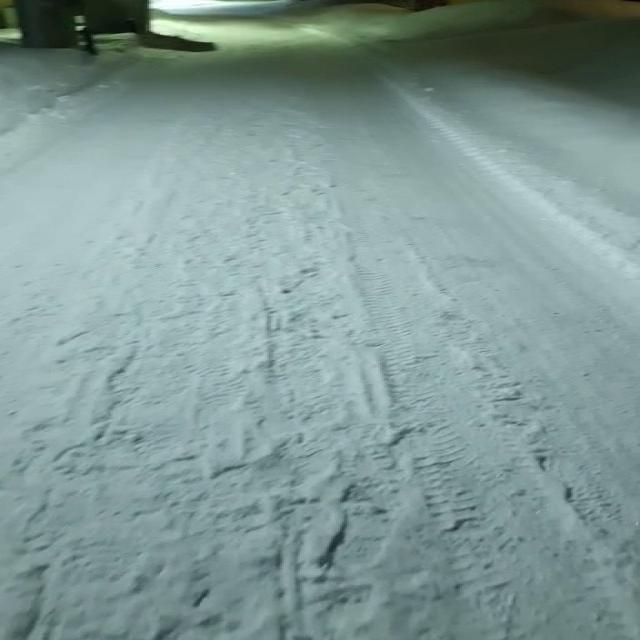path: (0, 7, 640, 640)
